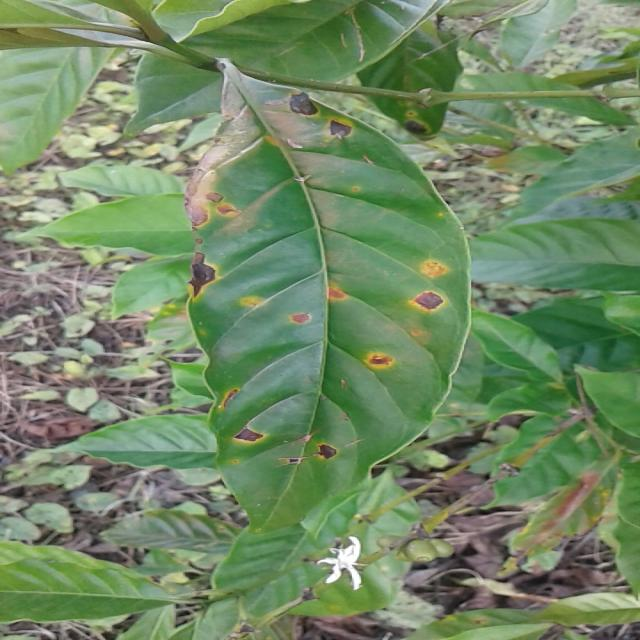Enfermedad-Roya: (184, 60, 471, 538)
